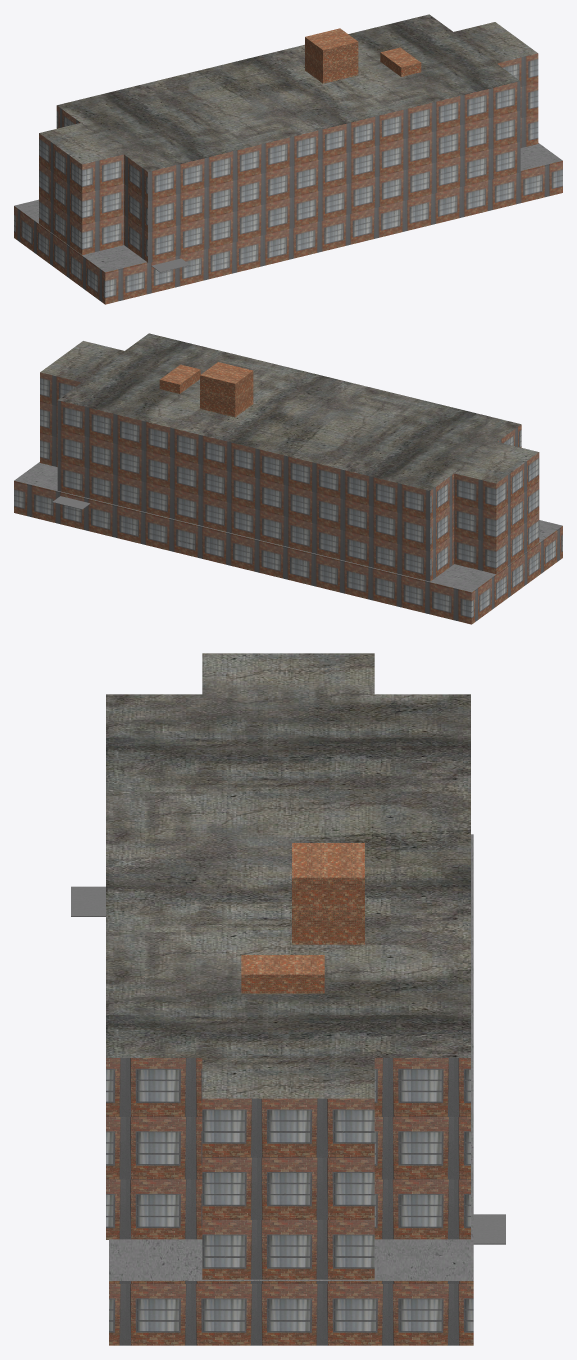
Rendered from LOD01_Building_4stores_BrickResidential.obj.
3 renders of one model, top to bottom at view 1: azimuth 30°, elevation 25°; view 2: azimuth 150°, elevation 25°; view 3: azimuth 270°, elevation 25°, orthographic. The views are drawn at different scales.
Parts seen in each view (by area): view 1: LOD01_Building_4stores_BrickResidential; view 2: LOD01_Building_4stores_BrickResidential; view 3: LOD01_Building_4stores_BrickResidential.
Boxes of the visible parts, x1,y1,x2,y2 form: LOD01_Building_4stores_BrickResidential: [14, 14, 562, 304]; LOD01_Building_4stores_BrickResidential: [14, 333, 562, 624]; LOD01_Building_4stores_BrickResidential: [71, 653, 505, 1345].
Bounding box in the file's own units: 16.11 × 5.26 × 6.63.
